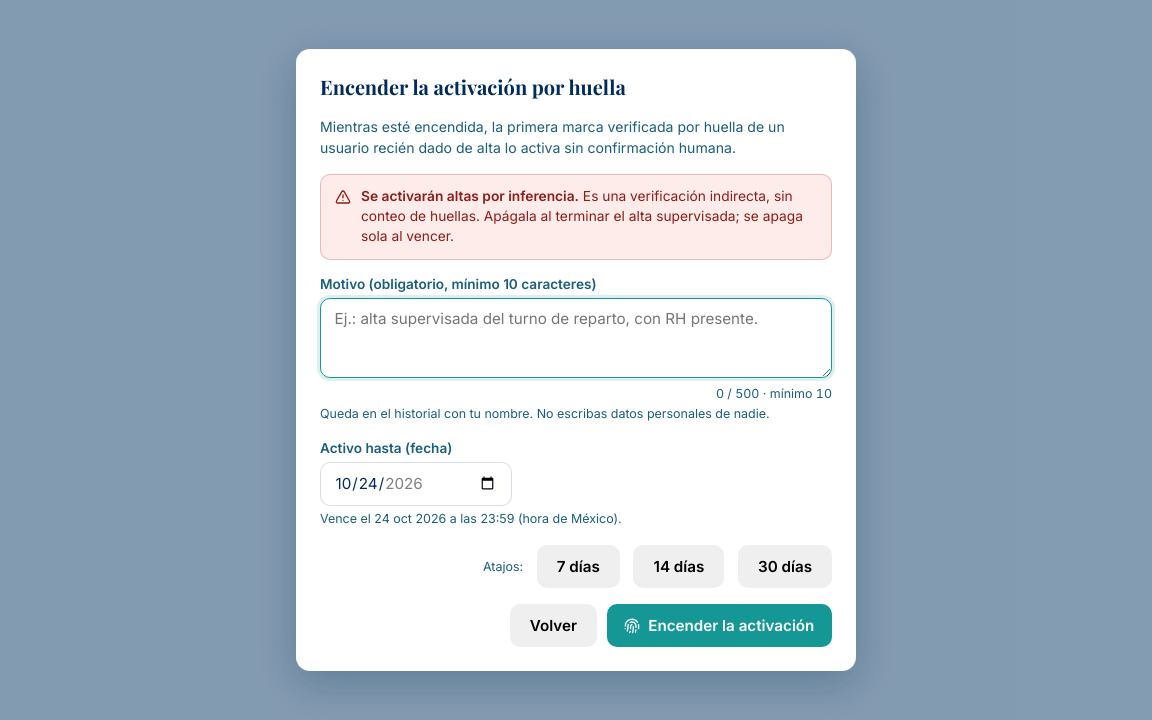
Scenario: CambiarInterruptorHuellaModal › error 409 {"codigo":"terminal_no_activa","detail":"x"}: texto fijo y conserva lo escrito
The width and height of the screenshot is (1152, 720).
Step 1. Type "Alta supervisada del turno de reparto, con RH presente." into the text box labelled "Motivo (obligatorio, mínimo 10 caracteres)" → (576, 338), box [320, 298, 832, 378]
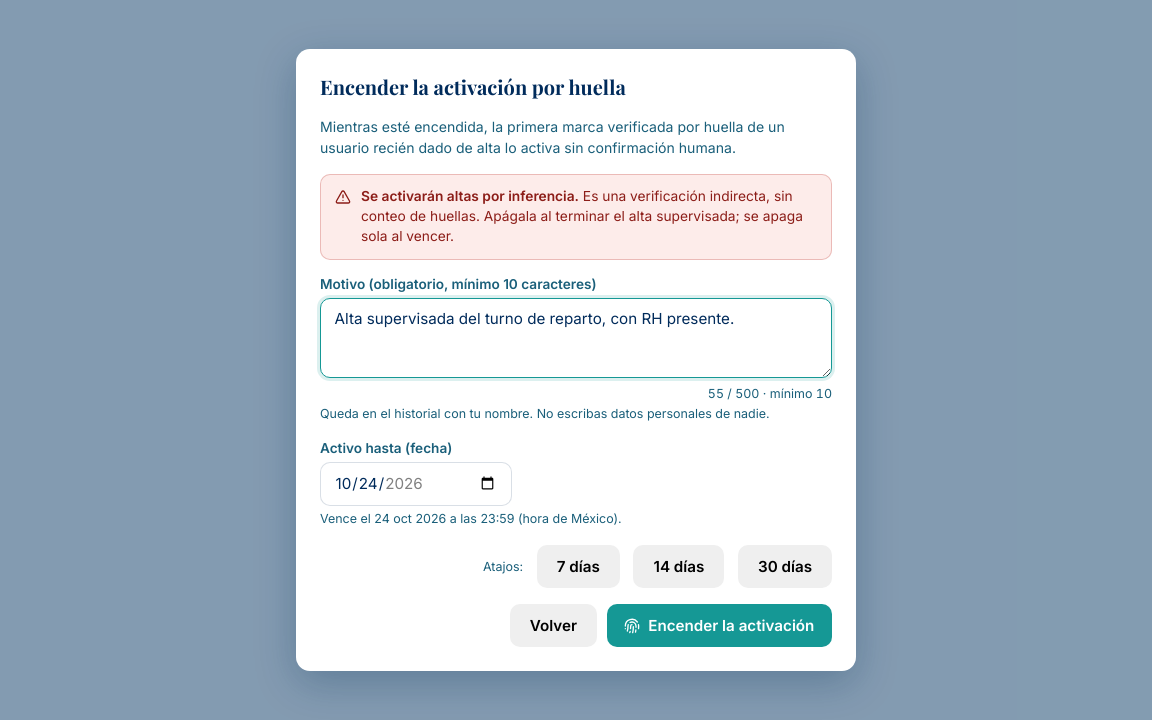
Step 2. Click the button "Encender la activación" → (719, 626), box [607, 604, 832, 647]
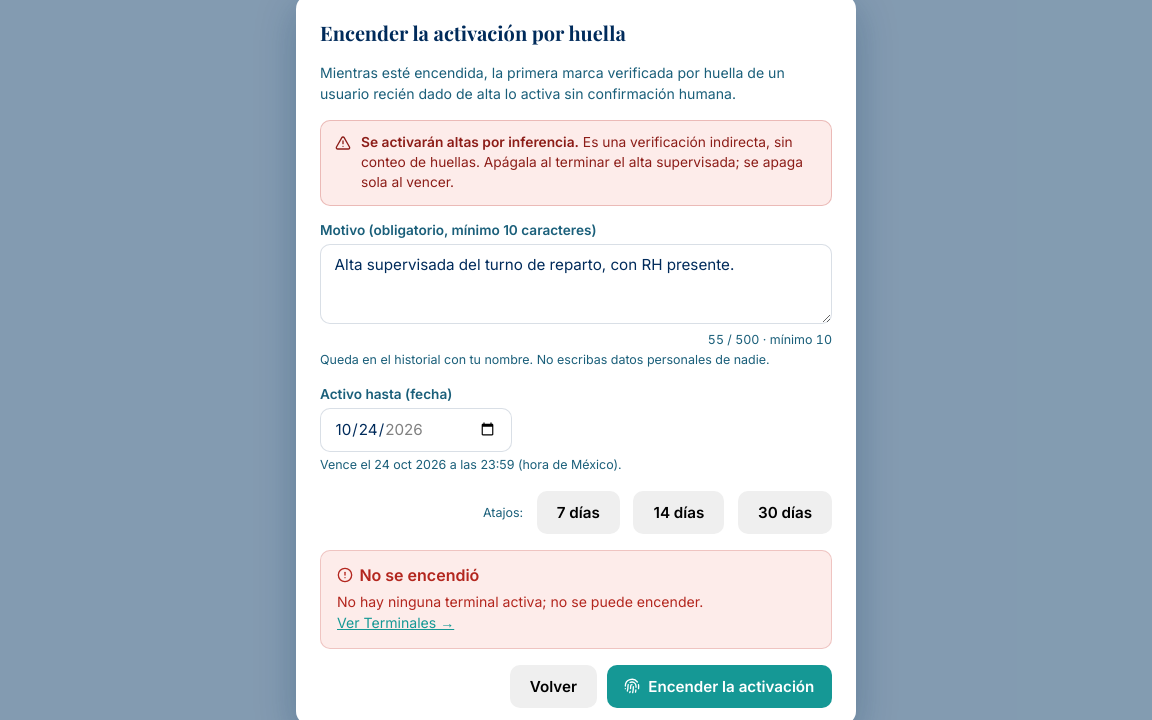
Expected: the button "Encender la activación" is enabled, [607, 665, 832, 708]
Expected: the message shows "No hay ninguna terminal activa; no se puede encender.", [337, 593, 703, 610]
